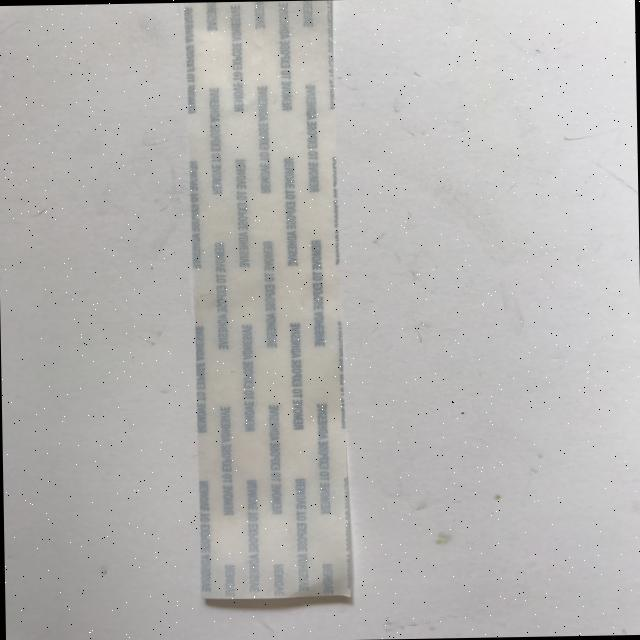paper: (0, 0, 640, 640), (183, 0, 350, 602)
